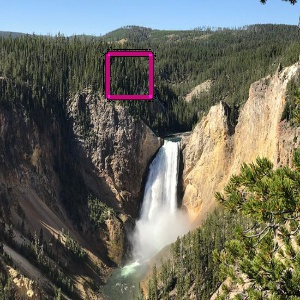square: (104, 48, 154, 100)
